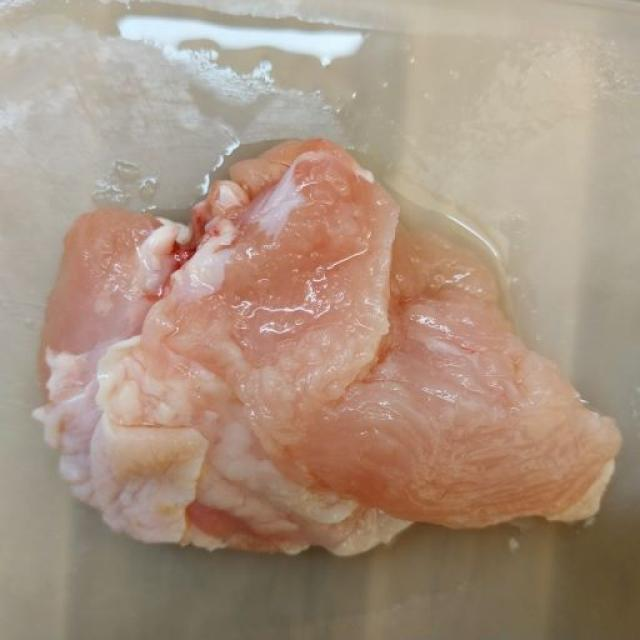chicken: (32, 136, 623, 557)
